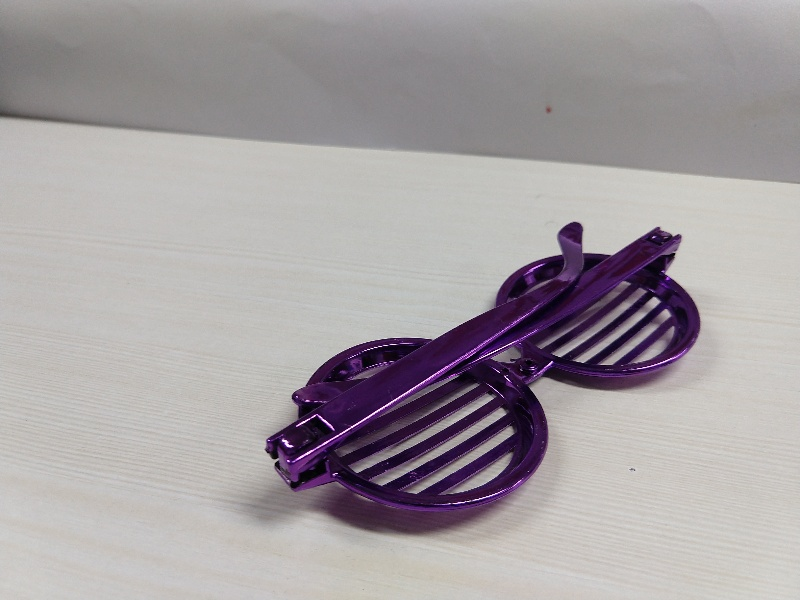shades: (256, 208, 719, 536)
